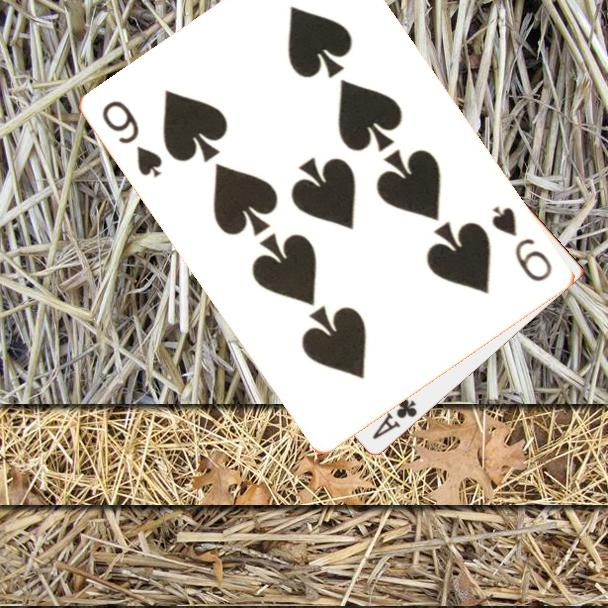c01: (369, 394, 420, 442)
s09: (488, 202, 556, 285), (99, 97, 166, 181)
